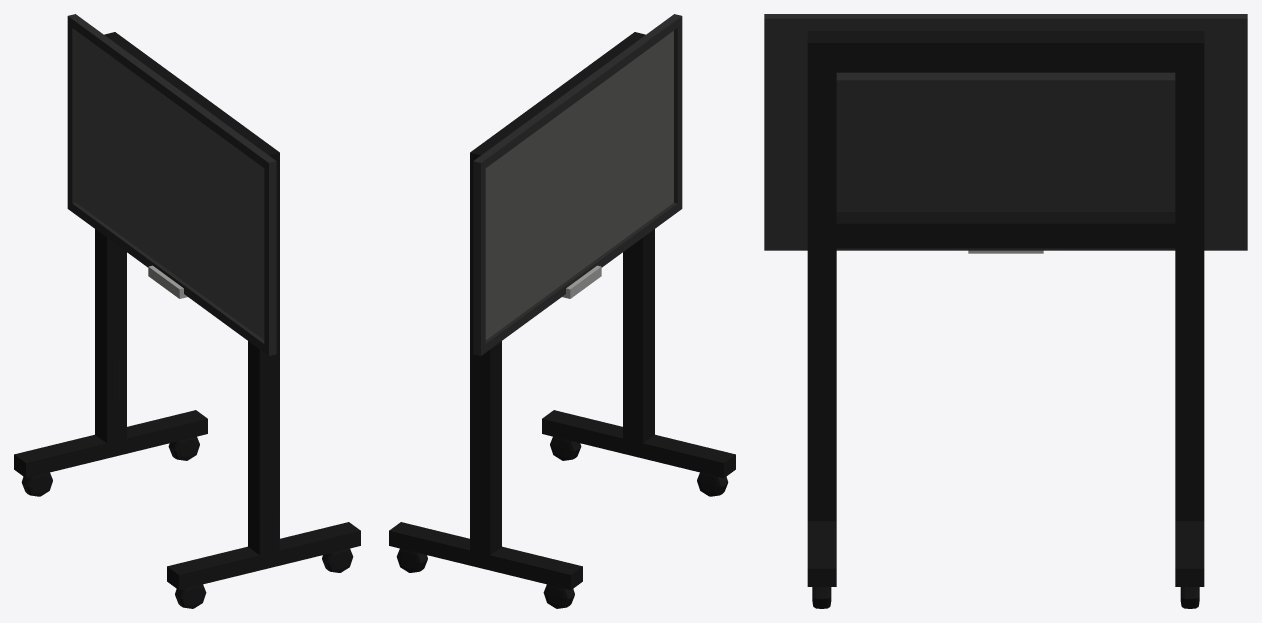
3 renders of one model, left to right at view 1: azimuth 30°, elevation 25°; view 2: azimuth 150°, elevation 25°; view 3: azimuth 270°, elevation 25°, orthographic. The views are drawn at different scales.
Visible parts, largest first — view 1: Cube001; view 2: Cube001; view 3: Cube001.
Part boxes in pixels (x1=…): Cube001: x1=14, y1=14, x2=360, y2=608; Cube001: x1=389, y1=14, x2=735, y2=608; Cube001: x1=764, y1=14, x2=1247, y2=608.
Bounding box in the file's own units: 2.68 × 6.31 × 5.12.
Materials: 1 (1 with a texture image).
